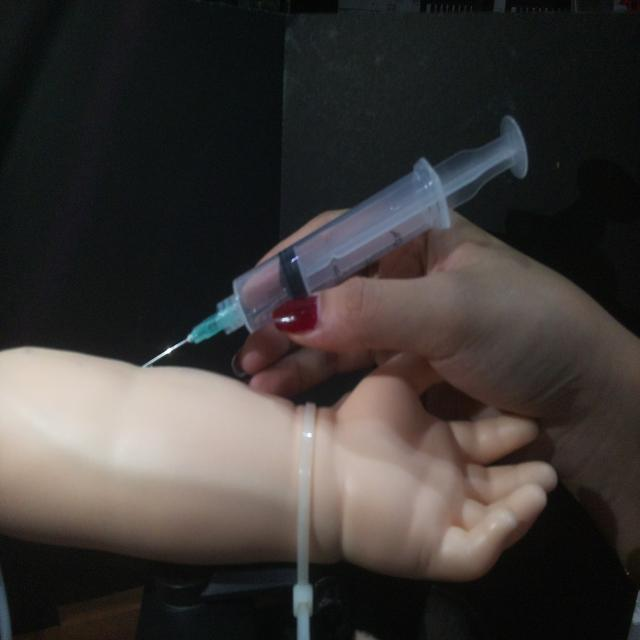27deg: (138, 108, 532, 370)
